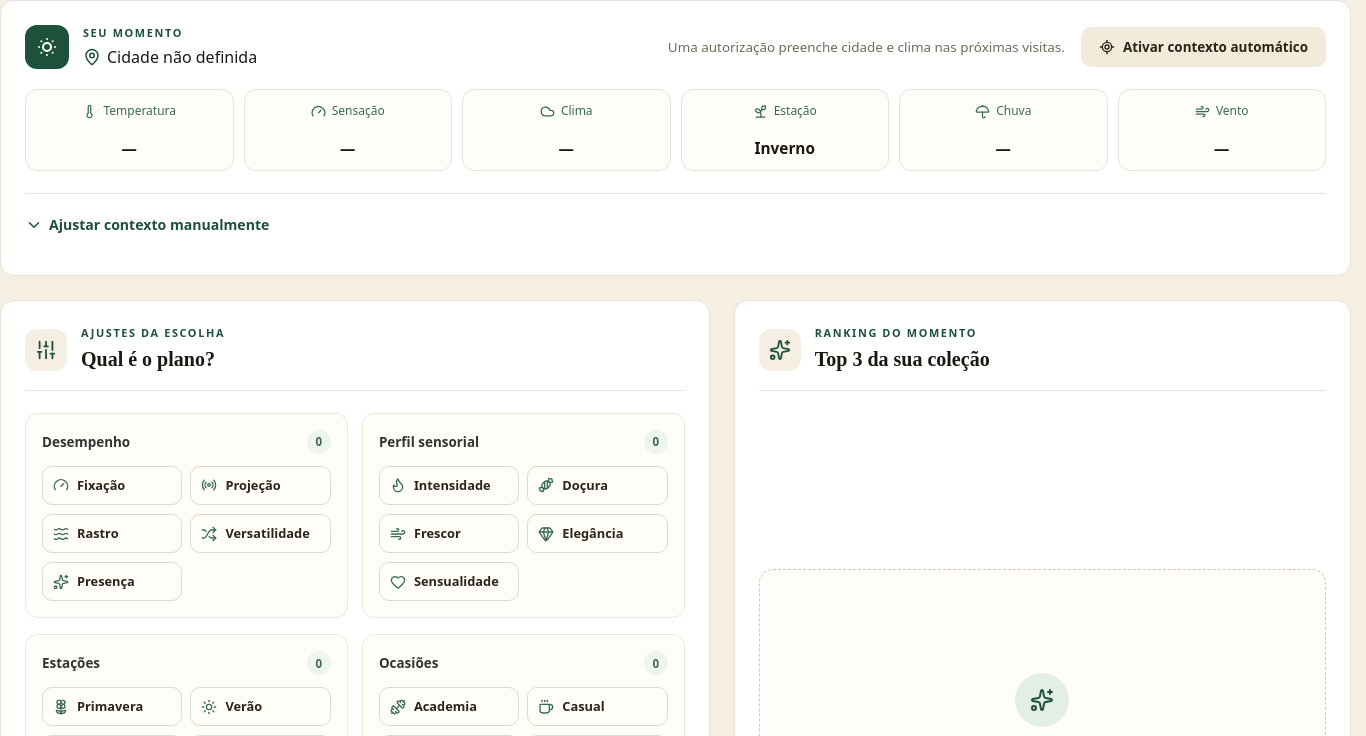
RecommenderView › activates manual context only after the user applies the manual form
Click the button "Ajustar contexto manualmente" at [147, 225], box [25, 214, 269, 235]
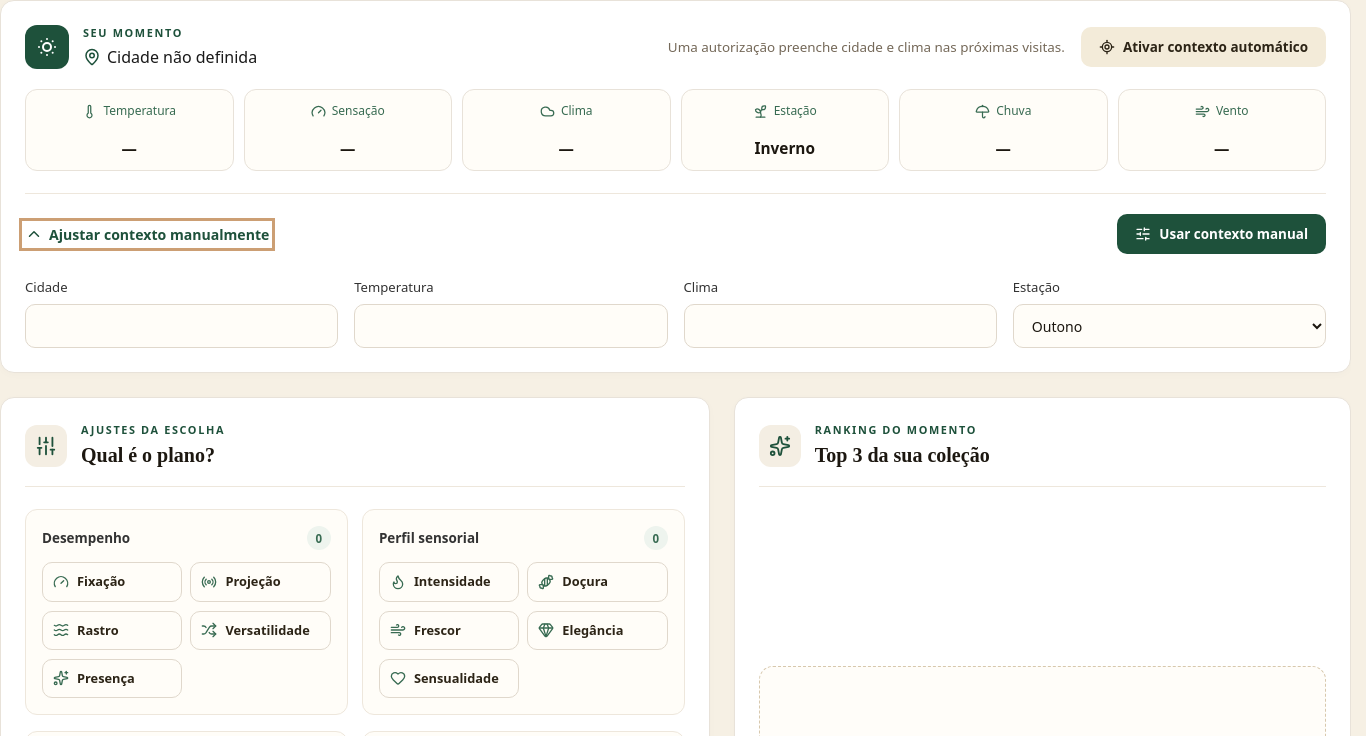
Type "Curitiba" into the field labelled "Cidade" at [182, 326], box [25, 304, 338, 348]
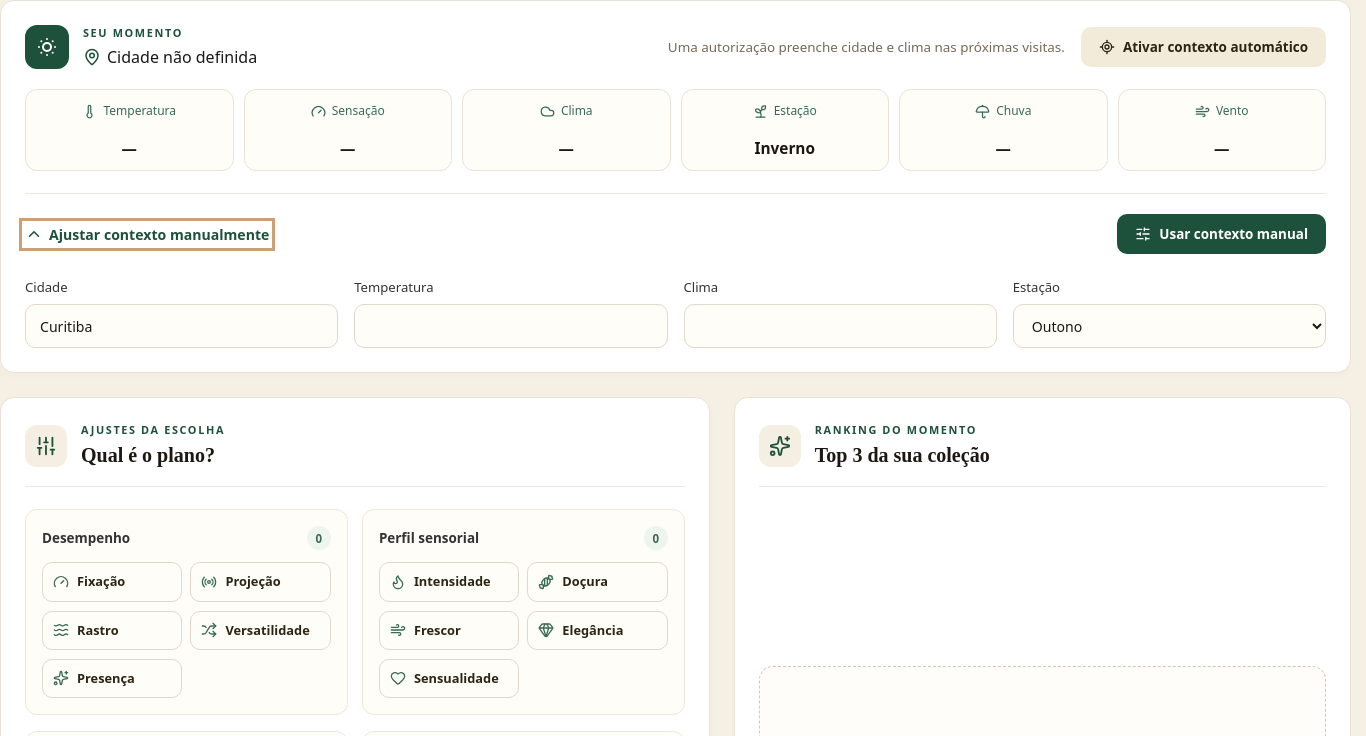
Type "18" into the field labelled "Temperatura" at [511, 326], box [354, 304, 668, 348]
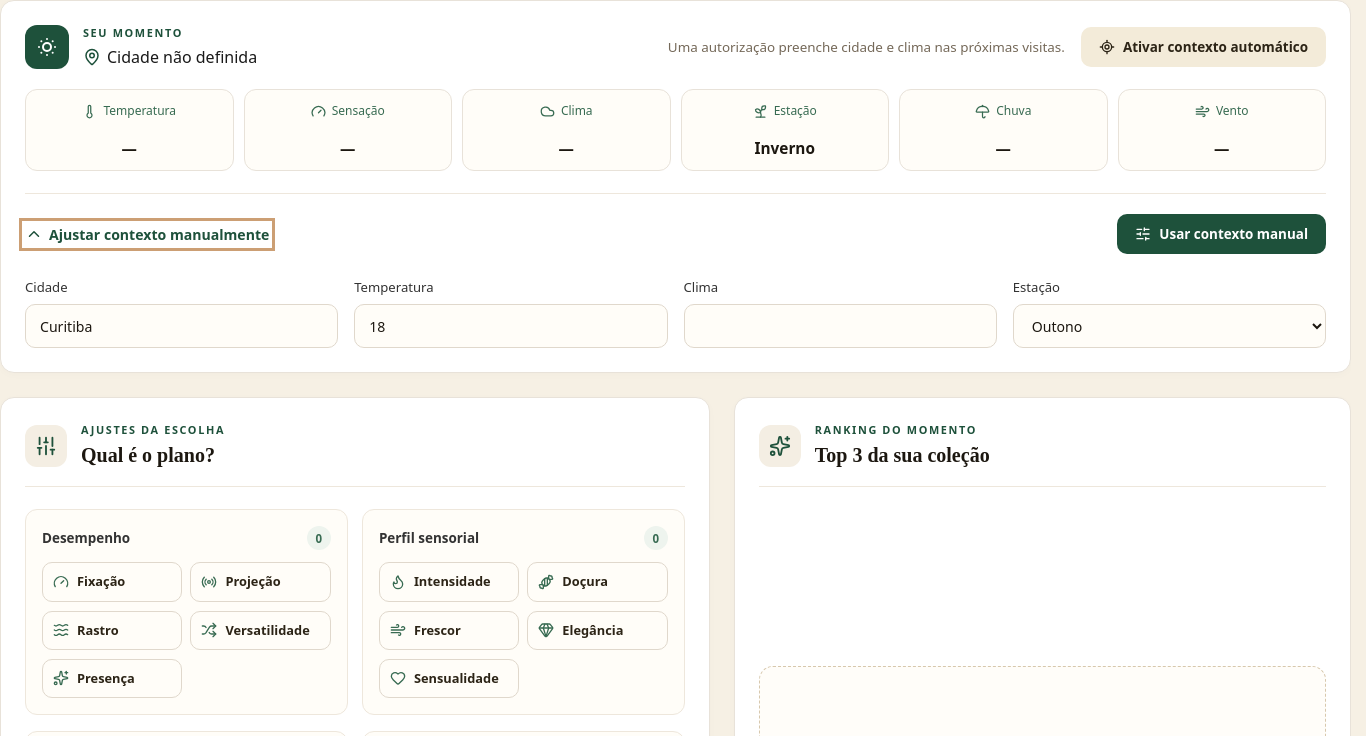
Type "Chuvoso" into the field labelled "Clima" at [840, 326], box [684, 304, 997, 348]
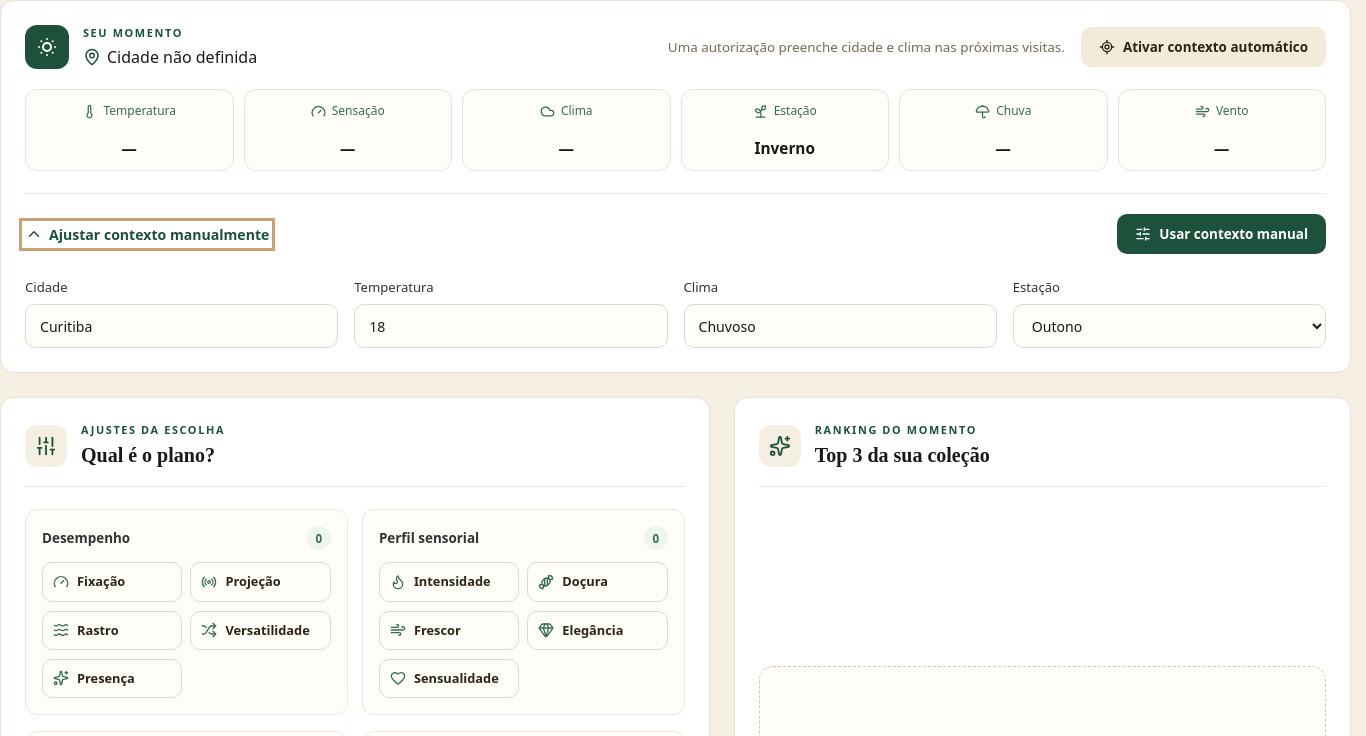
Select "Inverno" in the dropdown labelled "Estação" at [1169, 326], box [1013, 304, 1326, 348]
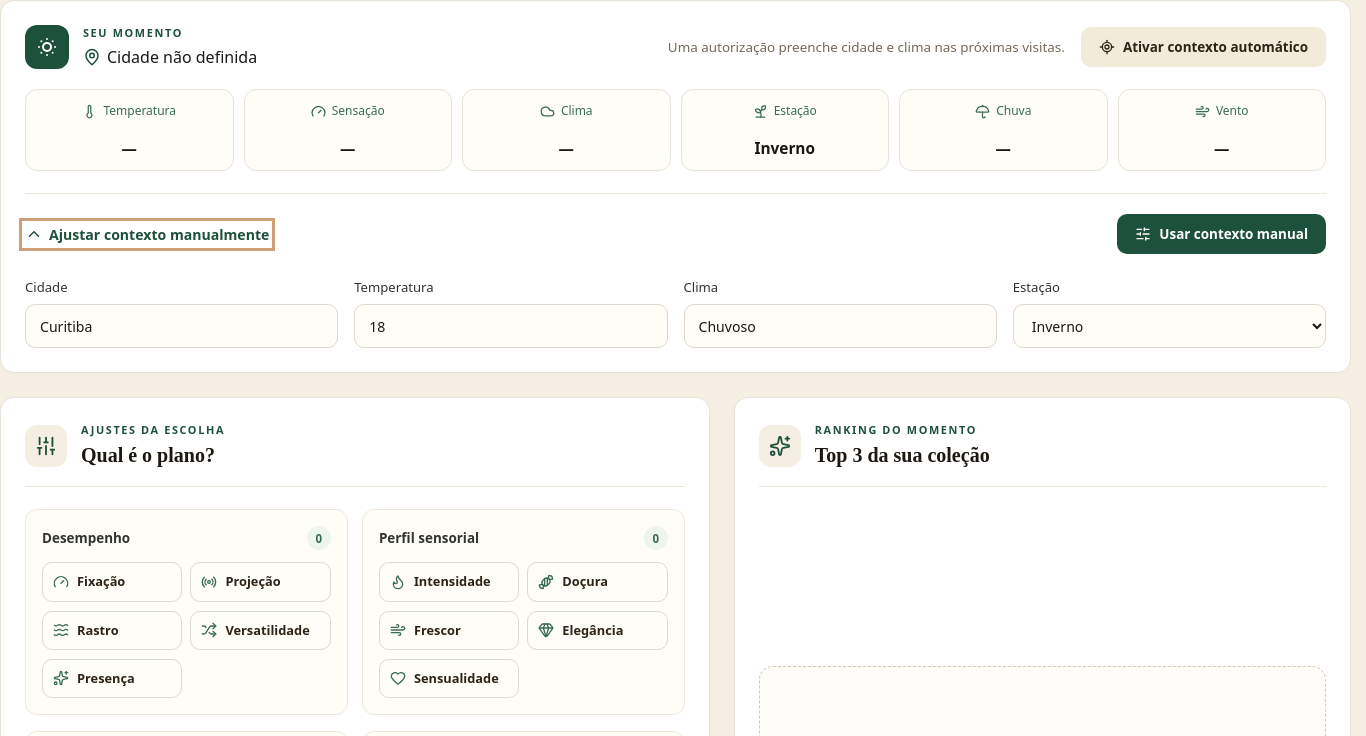
Click the button "Usar contexto manual" at [1222, 234], box [1117, 214, 1326, 254]
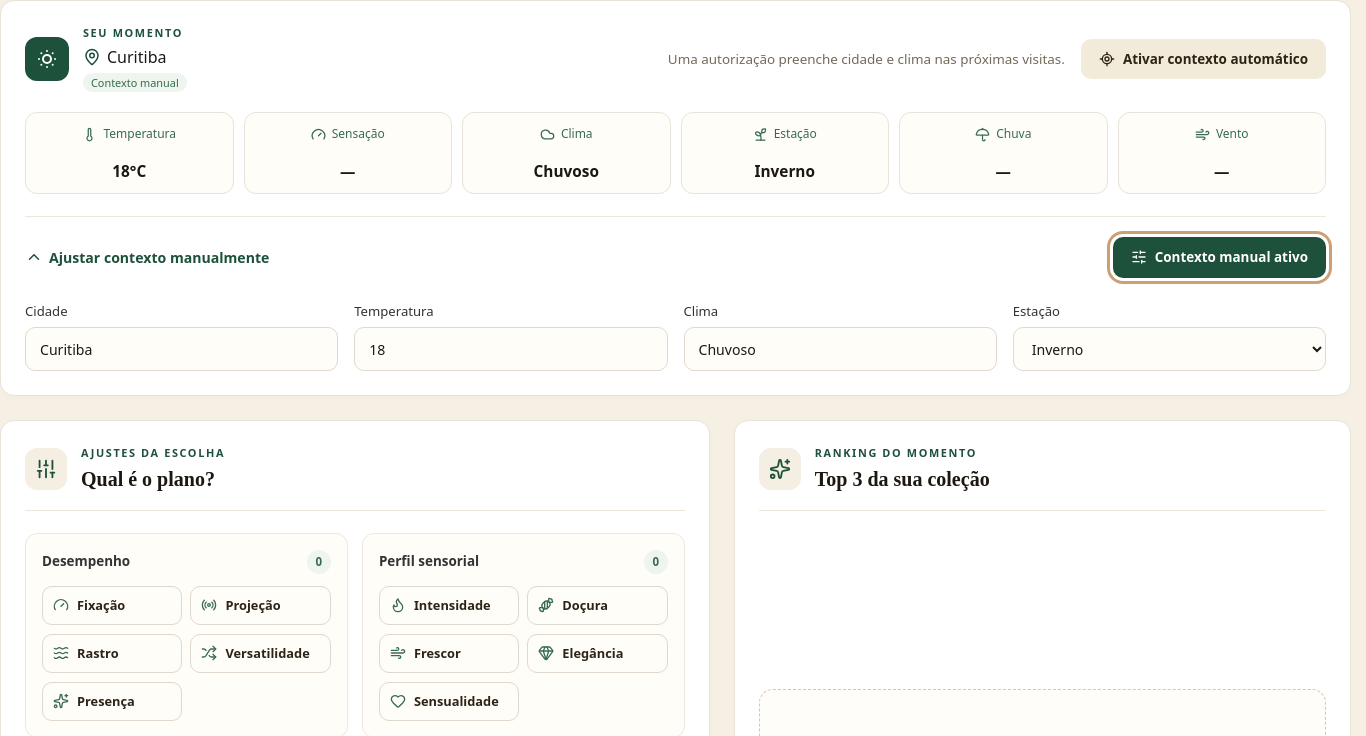
Result: the text "Contexto manual" is shown at [83, 73, 187, 92]
Result: the text "Curitiba" is shown at [107, 45, 166, 69]
Result: the text "Chuvoso" is shown at [534, 161, 599, 182]
